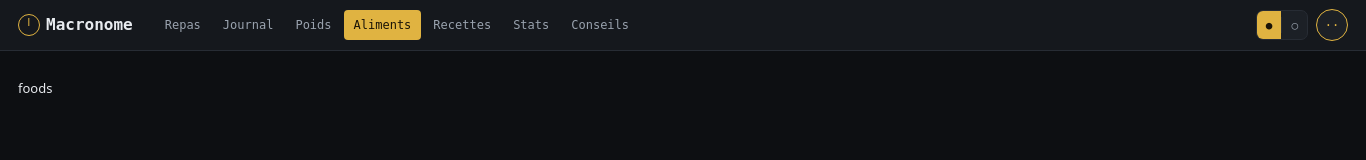
Scenario: AppShell persistence (B-274) › keeps the same appbar and bottom-nav elements across a navigation
Expected: the header is shown, top-left (0, 0), bottom-right (1365, 51)
Expected: the navigation bar is shown, top-left (155, 10), bottom-right (639, 40)
Click the link "Recettes": (462, 25) top-left (433, 18), bottom-right (491, 32)
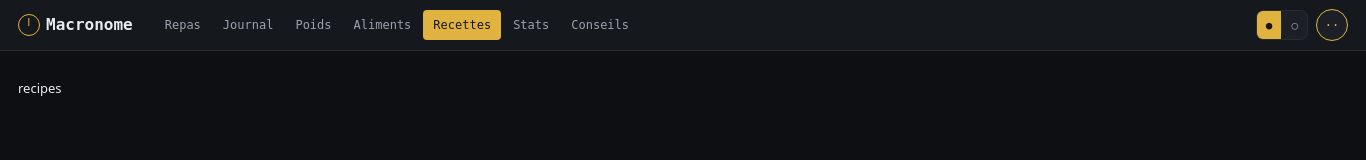
Expected: the text "recipes" is shown, top-left (18, 79), bottom-right (62, 97)
